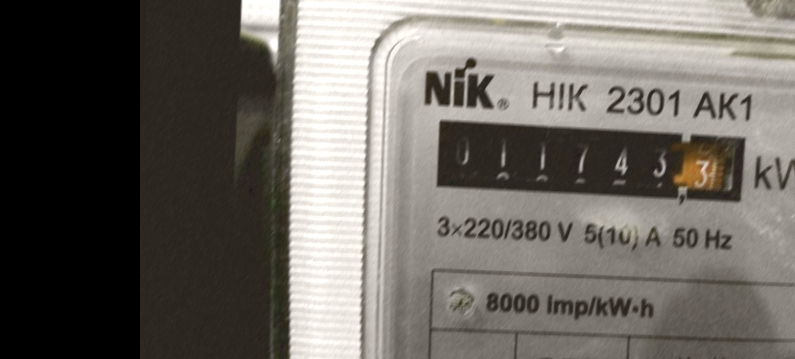0: (453, 132, 474, 169)
1: (536, 137, 552, 171), (499, 135, 511, 169)
3: (650, 145, 670, 180), (693, 158, 713, 192)
4: (613, 143, 631, 178)
7: (574, 140, 593, 175)
screen: (423, 108, 760, 216)
